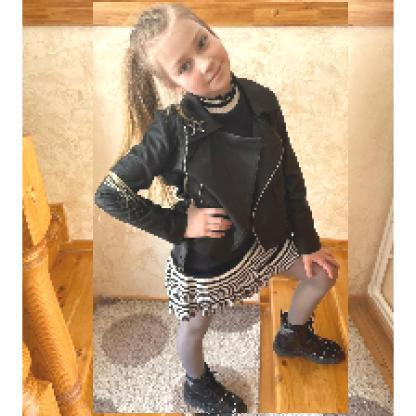child: (94, 3, 350, 415)
